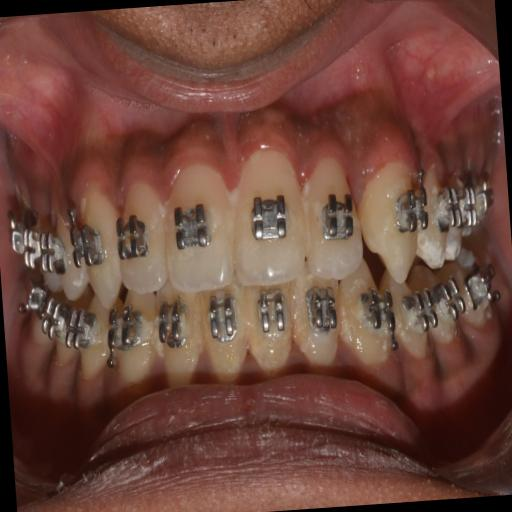correct_brace: (242, 182, 294, 252), (169, 190, 215, 262), (71, 209, 110, 279), (251, 288, 290, 352), (316, 186, 356, 247), (390, 182, 428, 246), (204, 290, 242, 348), (116, 208, 151, 269), (302, 288, 338, 340), (158, 298, 190, 356)
incorrect_brace: (302, 152, 364, 277), (115, 184, 166, 294), (154, 296, 206, 384), (292, 280, 342, 369)
